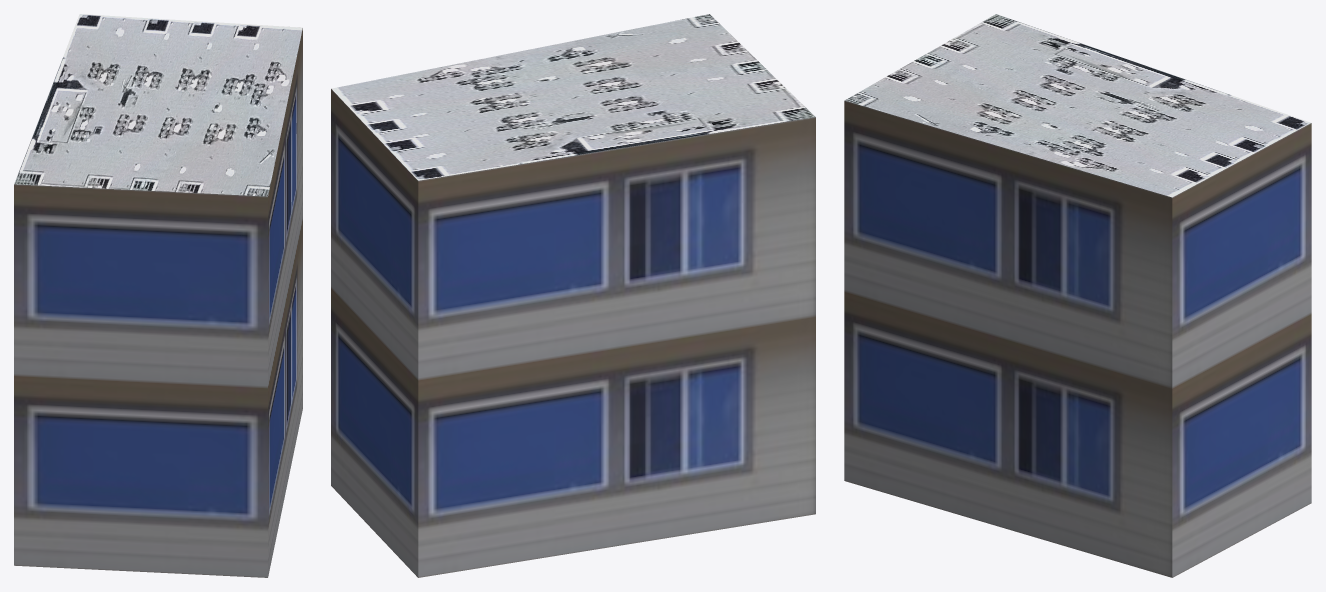
Rendered from ResTex__4324.fbx.
3 views of the same model, side by side, from view 1: azimuth 30°, elevation 25°; view 2: azimuth 150°, elevation 25°; view 3: azimuth 270°, elevation 25° (orthographic). The views are drawn at different scales.
Visible parts, largest first — view 1: CityEngineMaterial_23_m, CityEngineMaterial_4_m; view 2: CityEngineMaterial_23_m, CityEngineMaterial_4_m; view 3: CityEngineMaterial_23_m, CityEngineMaterial_4_m.
Boxes of the visible parts, left/top/right/bottom form: CityEngineMaterial_23_m: left=14, top=28, right=302, bottom=577; CityEngineMaterial_4_m: left=14, top=14, right=302, bottom=196; CityEngineMaterial_23_m: left=331, top=89, right=815, bottom=577; CityEngineMaterial_4_m: left=331, top=14, right=815, bottom=180; CityEngineMaterial_23_m: left=844, top=100, right=1311, bottom=577; CityEngineMaterial_4_m: left=845, top=14, right=1310, bottom=197.
Bounding box in the file's own units: 6.21 × 6 × 6.68.
2 materials, 2 textured.
